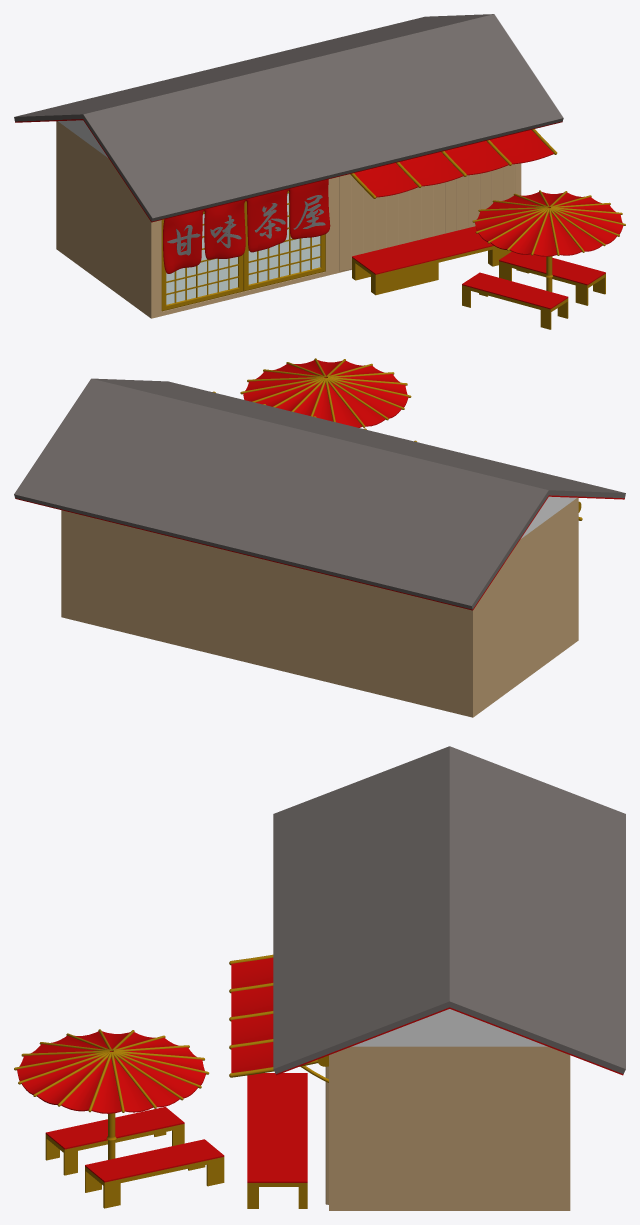
3 renders of one model, top to bottom at view 1: azimuth 30°, elevation 25°; view 2: azimuth 150°, elevation 25°; view 3: azimuth 270°, elevation 25°, orthographic. The views are drawn at different scales.
Visible parts, largest first — view 1: 010_arch_Chaya; view 2: 010_arch_Chaya; view 3: 010_arch_Chaya.
Boxes of the visible parts, x1,y1,x2,y2 form: 010_arch_Chaya: (14, 14, 625, 329); 010_arch_Chaya: (14, 358, 625, 717); 010_arch_Chaya: (14, 746, 625, 1210).
Bounding box in the file's own units: 0.2 × 0.0812 × 0.2026.
